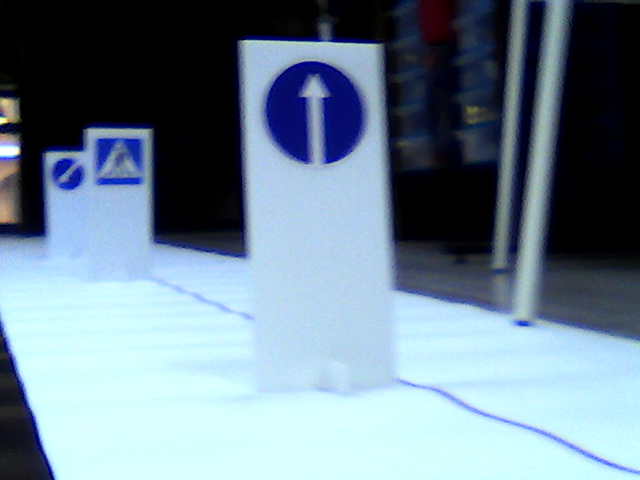forw: (261, 60, 366, 168)
pesh: (95, 134, 145, 190)
prep: (52, 157, 83, 190)
